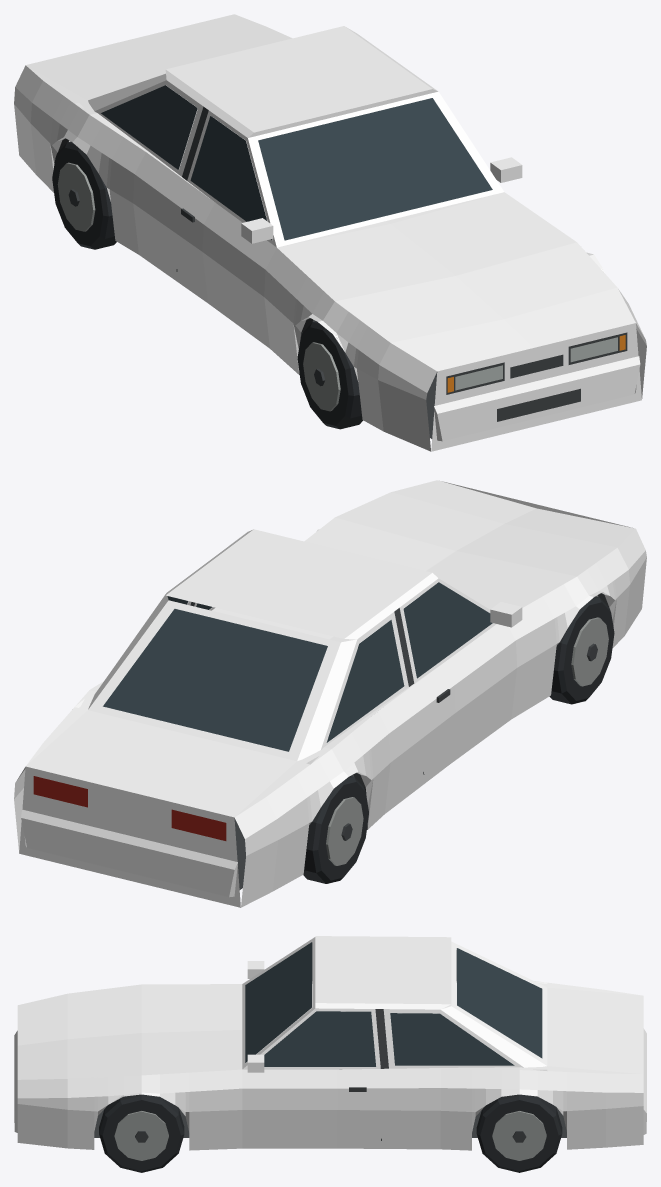
The model's file is hayase_kasasagi.glb.
3 renders of one model, top to bottom at view 1: azimuth 30°, elevation 25°; view 2: azimuth 150°, elevation 25°; view 3: azimuth 270°, elevation 25°, orthographic. The views are drawn at different scales.
Visible parts, largest first — view 1: hayase_kasasagi; view 2: hayase_kasasagi; view 3: hayase_kasasagi.
Part boxes in pixels (<box>): hayase_kasasagi: <box>14,14,646,451</box>; hayase_kasasagi: <box>14,480,646,907</box>; hayase_kasasagi: <box>14,936,646,1172</box>.
Bounding box in the file's own units: 1.8 × 1.25 × 4.64.
Materials: 8 (1 with a texture image).
